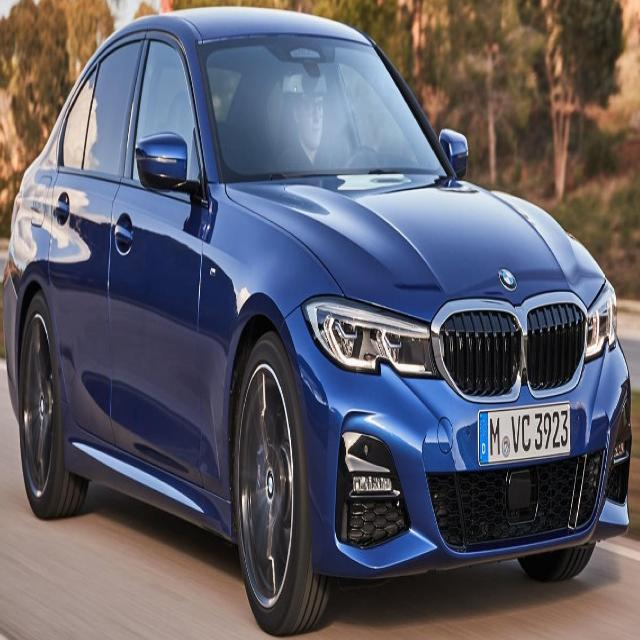blue: (5, 6, 631, 594)
